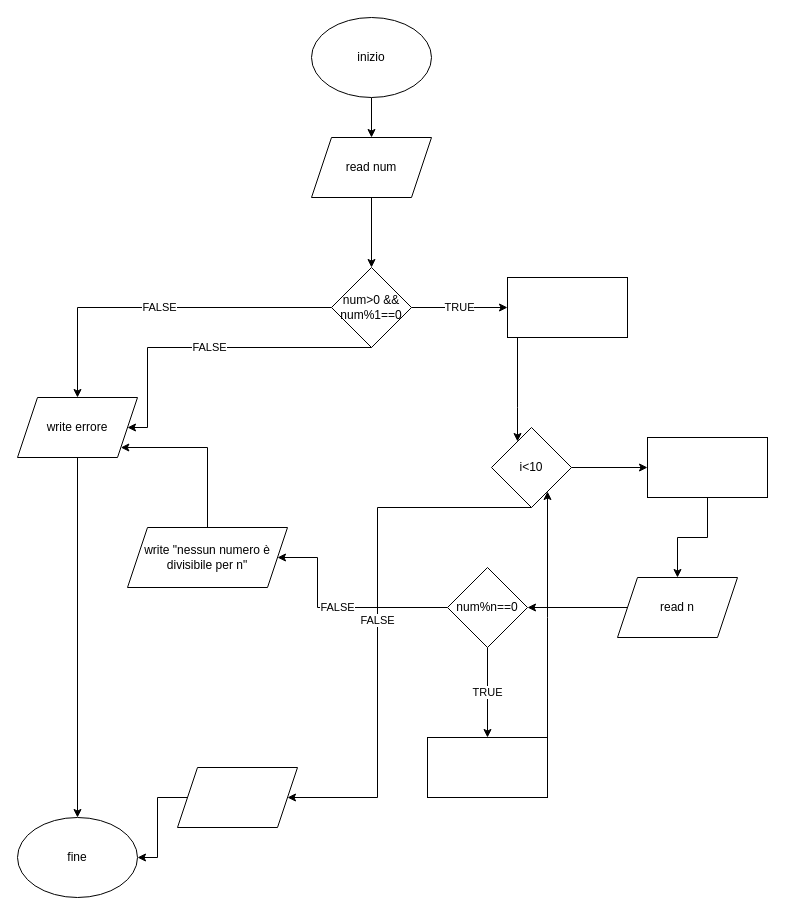
Some shapes in this 785 by 915 pixel diagram are drawn without their labels. The centre of each missing label's shape, as x and y in pixels:
"cont +=1" belongs at point (487, 767).
"i += 1" belongs at point (707, 467).
"i=0, cont=0" belongs at point (567, 307).
"write cont" belongs at point (237, 797).
